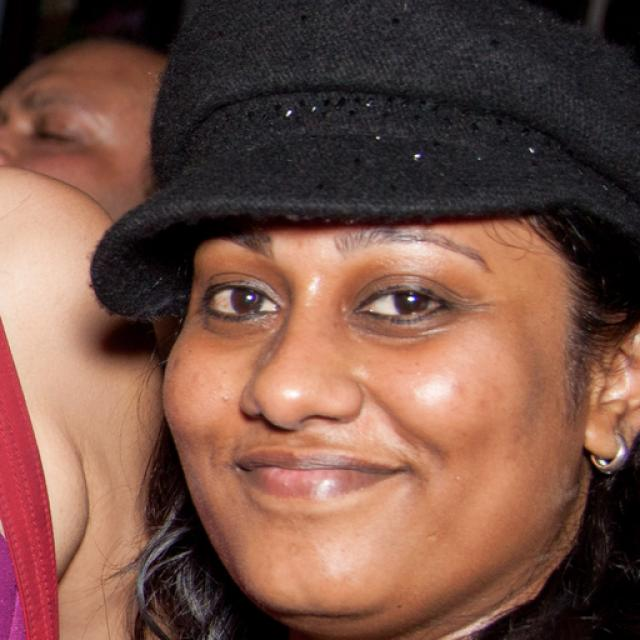Acne: (216, 390, 233, 409)
Dark Circle: (345, 308, 452, 345), (202, 314, 281, 338)
